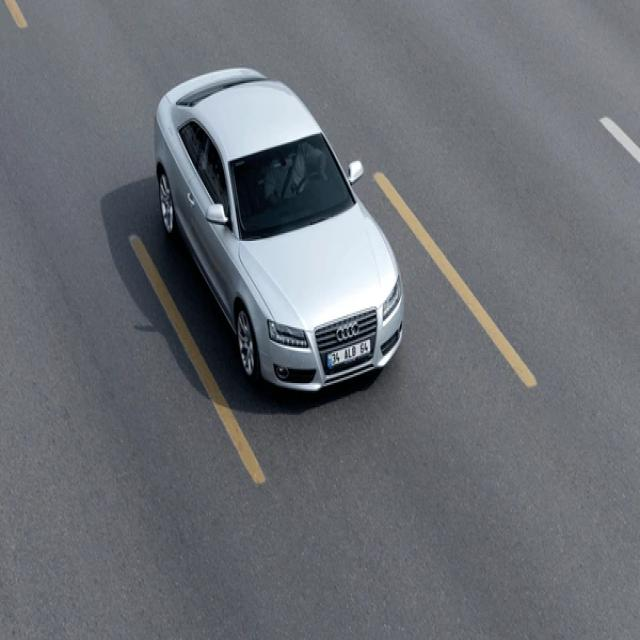audi: (334, 322, 359, 340)
